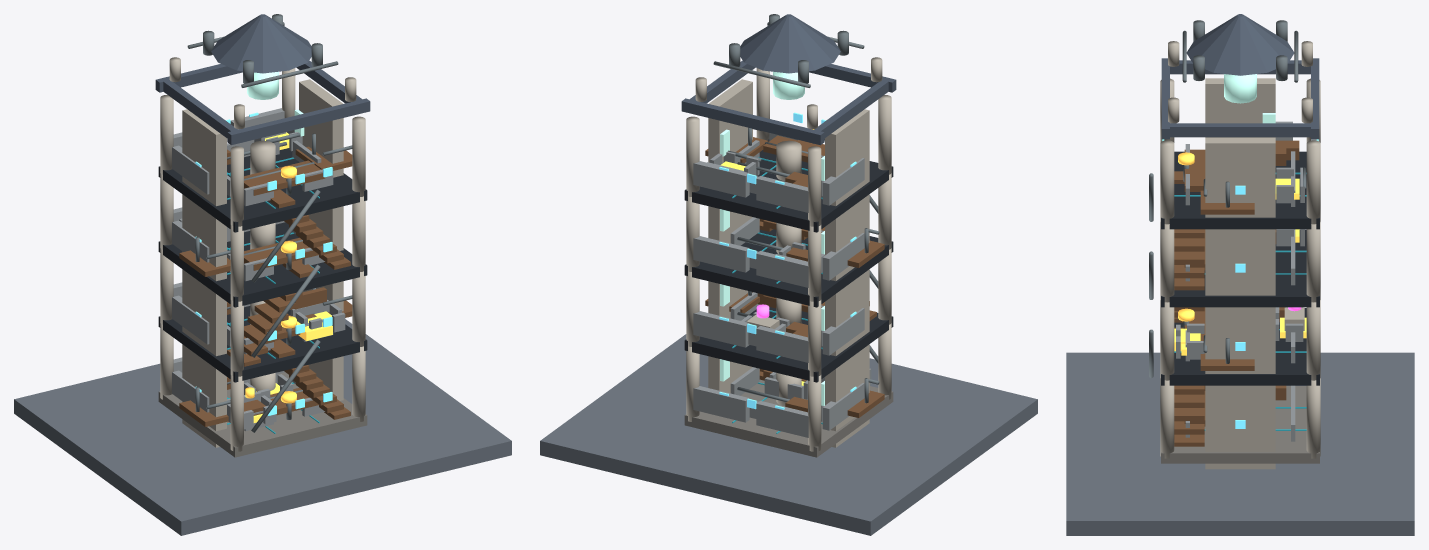
3 renders of one model, left to right at view 1: azimuth 30°, elevation 25°; view 2: azimuth 150°, elevation 25°; view 3: azimuth 270°, elevation 25°, orthographic. The views are drawn at different scales.
Visible parts, largest first — view 1: ProfileGround.013, TowerButtress_visual_lighthouse_-1, TowerButtress_visual_lighthouse_1, BuildingFloor_4.001, BuildingFloor_1.010, LighthouseRoof_visual_lighthouse, BuildingFloor_3.006, BuildingFloor_2.010, TowerEaveSouth_visual_lighthouse, TowerEaveWest_visual_lighthouse, TowerLanding_visual_lighthouse_3, Column_4_-1_-1.001 (+23 smaller); view 2: ProfileGround.013, TowerButtress_visual_lighthouse_-1, TowerButtress_visual_lighthouse_1, BuildingFloor_4.001, LighthouseRoof_visual_lighthouse, BuildingFloor_3.006, BuildingFloor_1.010, BuildingFloor_2.010, TowerEaveNorth_visual_lighthouse, BackWall_1_1.010, BackWall_3_1.006, BackWall_4_1.001 (+27 smaller); view 3: ProfileGround.013, TowerButtress_visual_lighthouse_1, LighthouseRoof_visual_lighthouse, BuildingFloor_1.010, BuildingFloor_4.001, BuildingFloor_3.006, BuildingFloor_2.010, TowerButtress_visual_lighthouse_-1, TowerEaveEast_visual_lighthouse, Column_4_1_-1.001, Column_4_1_1.001, Column_1_1_-1.010 (+16 smaller).
Part boxes in pixels (box(x1,y1,x2,y2)): ProfileGround.013: box(14, 319, 511, 535); TowerButtress_visual_lighthouse_-1: box(182, 109, 226, 447); TowerButtress_visual_lighthouse_1: box(299, 79, 343, 400); BuildingFloor_4.001: box(158, 148, 367, 232); BuildingFloor_1.010: box(158, 372, 367, 457); LighthouseRoof_visual_lighthouse: box(211, 14, 311, 73); BuildingFloor_3.006: box(158, 222, 367, 307); BuildingFloor_2.010: box(158, 306, 367, 382); TowerEaveSouth_visual_lighthouse: box(227, 98, 370, 145); TowerEaveWest_visual_lighthouse: box(163, 80, 237, 137); TowerLanding_visual_lighthouse_3: box(244, 160, 325, 195); Column_4_-1_-1.001: box(230, 146, 243, 226); ProfileGround.013: box(540, 334, 1037, 535); TowerButtress_visual_lighthouse_-1: box(825, 109, 869, 447); TowerButtress_visual_lighthouse_1: box(708, 79, 752, 393); BuildingFloor_4.001: box(684, 139, 893, 232); LighthouseRoof_visual_lighthouse: box(740, 14, 840, 73); BuildingFloor_3.006: box(684, 229, 893, 307); BuildingFloor_1.010: box(684, 379, 893, 457); BuildingFloor_2.010: box(684, 307, 893, 382); TowerEaveNorth_visual_lighthouse: box(681, 98, 824, 145); BackWall_1_1.010: box(693, 386, 749, 422); BackWall_3_1.006: box(693, 236, 749, 272); BackWall_4_1.001: box(693, 161, 749, 197); ProfileGround.013: box(1066, 352, 1414, 535); TowerButtress_visual_lighthouse_1: box(1205, 137, 1275, 469); LighthouseRoof_visual_lighthouse: box(1186, 14, 1294, 75); BuildingFloor_1.010: box(1161, 386, 1319, 463); BuildingFloor_4.001: box(1161, 151, 1319, 229); BuildingFloor_3.006: box(1161, 229, 1319, 307); BuildingFloor_2.010: box(1161, 308, 1319, 385); TowerButtress_visual_lighthouse_-1: box(1205, 78, 1275, 137); TowerEaveEast_visual_lighthouse: box(1169, 123, 1311, 137); Column_4_1_-1.001: box(1160, 140, 1174, 224); Column_4_1_1.001: box(1306, 140, 1320, 224); Column_1_1_-1.010: box(1160, 378, 1174, 458).
Bounding box in the file's own units: 4.8 × 5.81 × 4.2.
